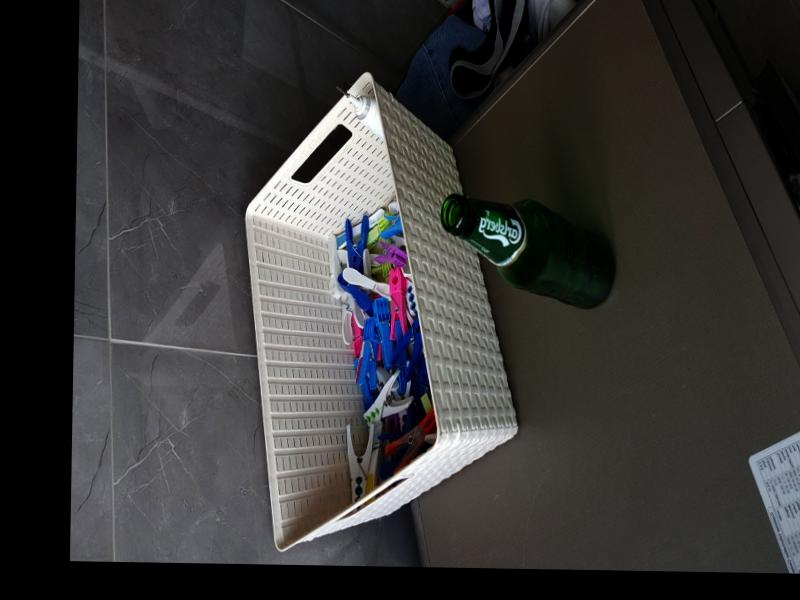Beer: (438, 195, 616, 309)
